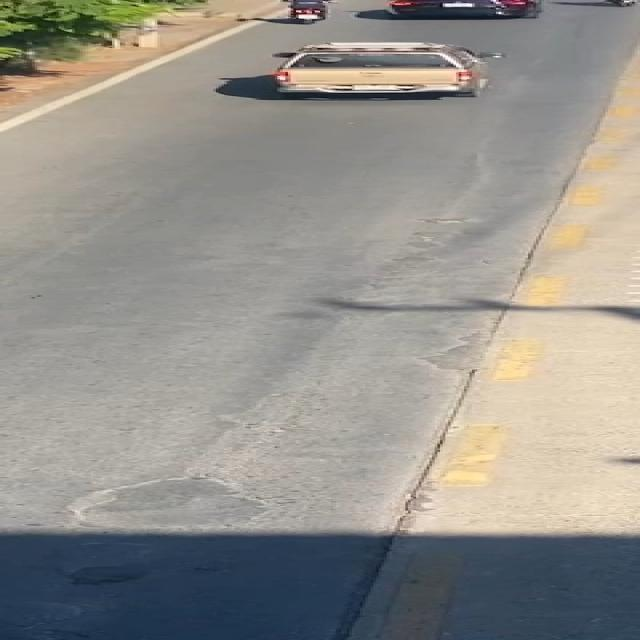car: (248, 35, 518, 103)
